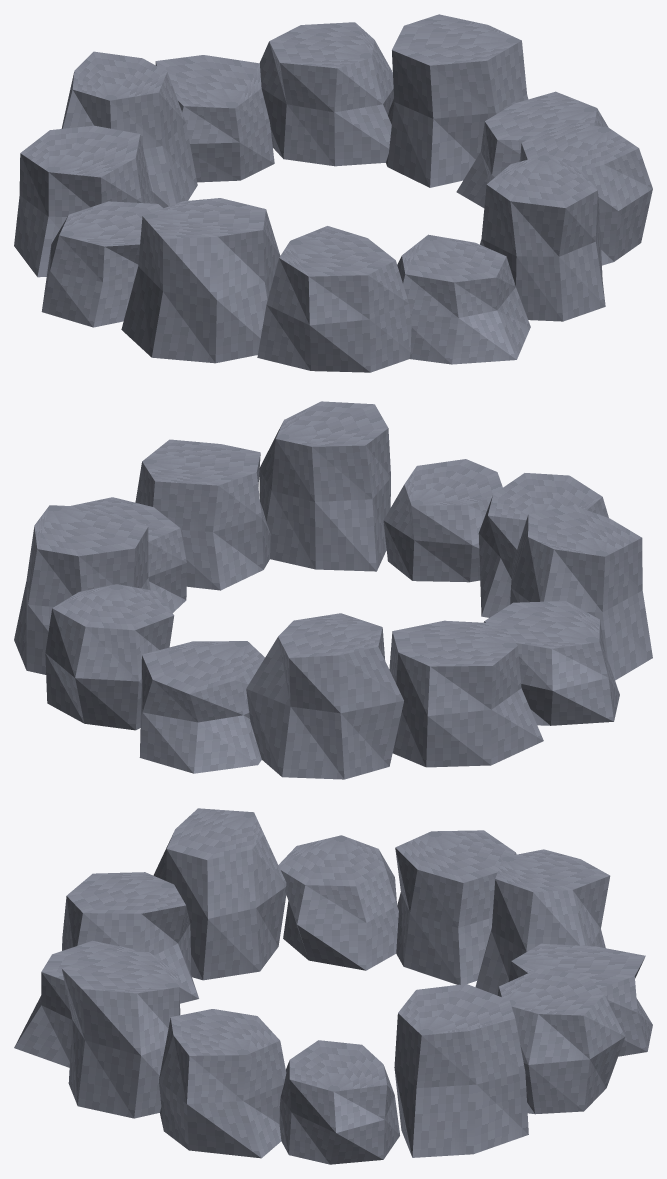
Rendered from cave-and-crystal-networks-sinkhole-4045e8d9.glb.
The picture shows the model from 3 angles, top to bottom: view 1: azimuth 30°, elevation 25°; view 2: azimuth 150°, elevation 25°; view 3: azimuth 270°, elevation 25°; orthographic projection. The views are drawn at different scales.
Parts seen in each view (by area): view 1: sinkhole; view 2: sinkhole; view 3: sinkhole.
Boxes of the visible parts, x1,y1,x2,y2 form: sinkhole: (14, 14, 652, 372); sinkhole: (14, 401, 652, 779); sinkhole: (14, 808, 652, 1164).
Bounding box in the file's own units: 5.62 × 1.1 × 5.56.
Materials: 1 (1 with a texture image).
